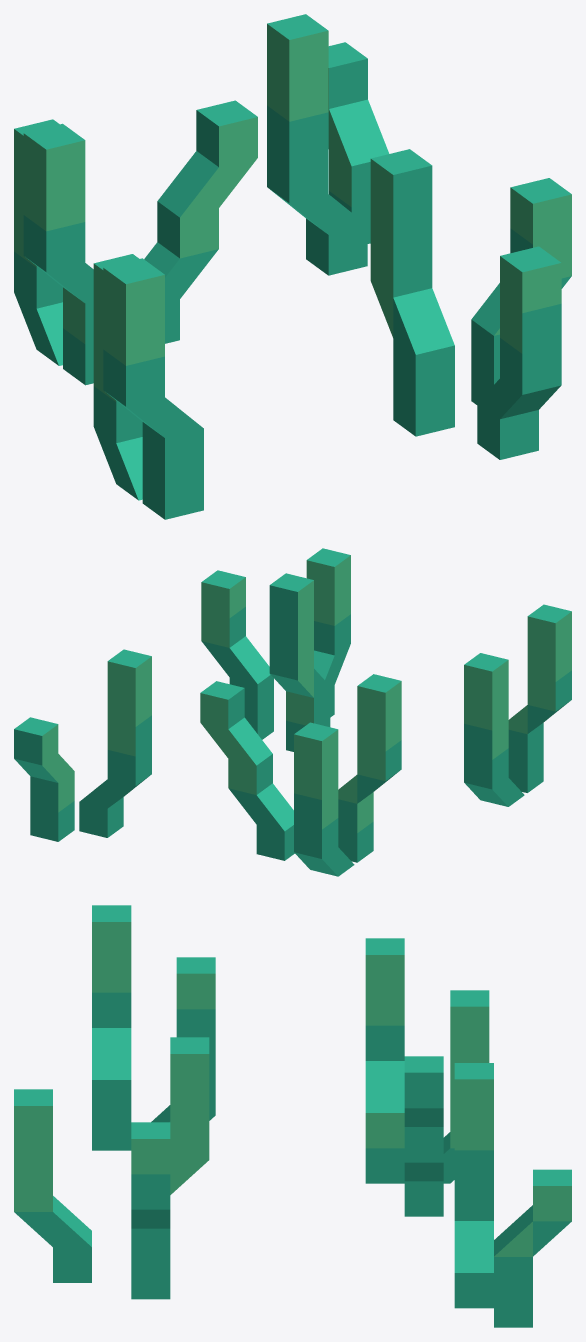
File: grass.fbx
3 views of the same model, one above another, from view 1: azimuth 30°, elevation 25°; view 2: azimuth 150°, elevation 25°; view 3: azimuth 270°, elevation 25° (orthographic). The views are drawn at different scales.
Visible parts, largest first — view 1: cuboid_2, cuboid_6, cuboid_9, cuboid, cuboid_3, cuboid_4, cuboid_8, cuboid_1, cuboid_7, cuboid_5; view 2: cuboid_9, cuboid_4, cuboid_6, cuboid_3, cuboid_2, cuboid_7, cuboid_5, cuboid_1, cuboid_8, cuboid; view 3: cuboid_3, cuboid_6, cuboid_9, cuboid, cuboid_1, cuboid_8, cuboid_4, cuboid_2, cuboid_7, cuboid_5.
Boxes of the visible parts, box(x1,y1,x2,y2) form: cuboid_2: box(370, 149, 454, 436); cuboid_6: box(103, 258, 203, 519); cuboid_9: box(267, 14, 367, 275); cuboid: box(477, 246, 561, 459); cuboid_3: box(23, 123, 93, 385); cuboid_4: box(144, 100, 257, 343); cuboid_8: box(328, 42, 389, 243); cuboid_1: box(471, 178, 571, 404); cuboid_7: box(93, 254, 142, 500); cuboid_5: box(14, 119, 62, 365); cuboid_9: box(79, 649, 151, 837); cuboid_4: box(200, 681, 294, 860); cuboid_6: box(508, 604, 571, 792); cuboid_3: box(338, 674, 401, 862); cuboid_2: box(269, 573, 330, 751); cuboid_7: box(464, 653, 524, 806); cuboid_5: box(294, 722, 354, 876); cuboid_1: box(201, 570, 273, 739); cuboid_8: box(14, 717, 74, 841); cuboid: box(306, 548, 350, 717); cuboid_3: box(365, 938, 404, 1183); cuboid_6: box(92, 905, 131, 1150); cuboid_9: box(454, 1063, 493, 1308); cuboid: box(14, 1089, 91, 1282); cuboid_1: box(131, 1122, 170, 1299); cuboid_8: box(494, 1169, 571, 1327); cuboid_4: box(404, 1056, 443, 1216); cuboid_2: box(170, 1037, 209, 1194); cuboid_7: box(151, 957, 215, 1122); cuboid_5: box(443, 990, 489, 1183).
Bounding box in the file's own units: 79.46 × 37.5 × 89.29.
1 material, 1 textured.
